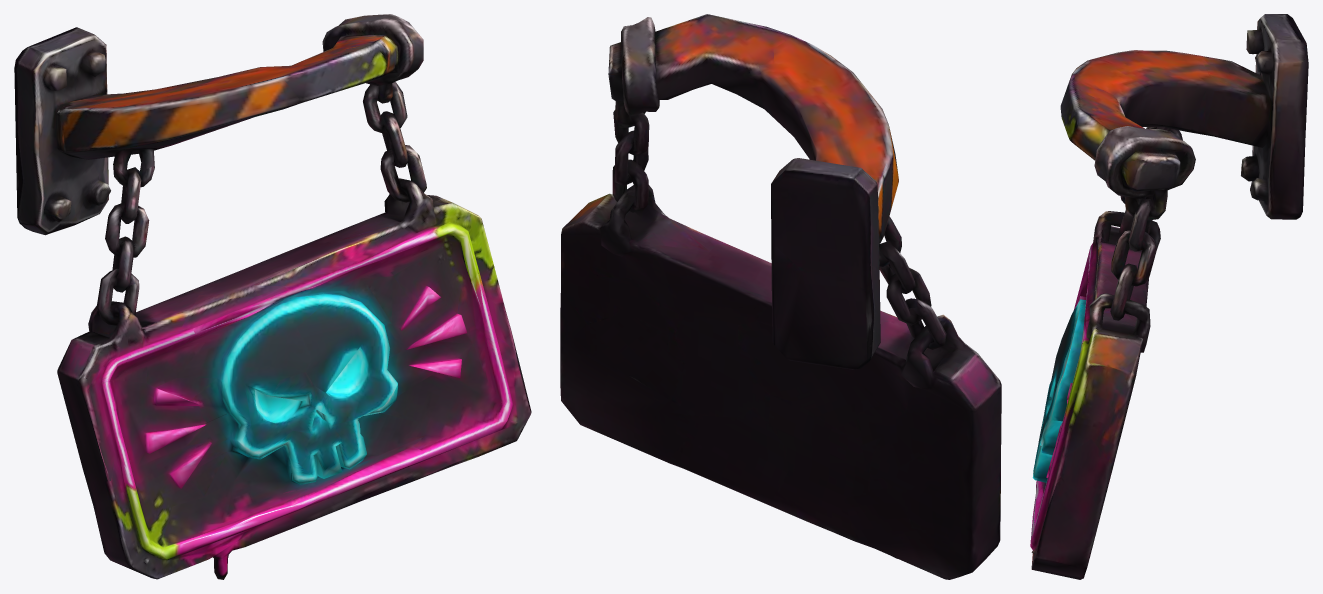
The model's file is GW_INT_hanging_sign.glb.
3 views of the same model, side by side, from view 1: azimuth 30°, elevation 25°; view 2: azimuth 150°, elevation 25°; view 3: azimuth 270°, elevation 25° (orthographic). The views are drawn at different scales.
Visible parts, largest first — view 1: tripo_node_a827f9cf-a6a6-4560-b8cf-17e203413412; view 2: tripo_node_a827f9cf-a6a6-4560-b8cf-17e203413412; view 3: tripo_node_a827f9cf-a6a6-4560-b8cf-17e203413412.
Part boxes in pixels (bbox=[...]): tripo_node_a827f9cf-a6a6-4560-b8cf-17e203413412: bbox=[14, 14, 531, 579]; tripo_node_a827f9cf-a6a6-4560-b8cf-17e203413412: bbox=[560, 14, 1001, 579]; tripo_node_a827f9cf-a6a6-4560-b8cf-17e203413412: bbox=[1030, 14, 1308, 579].
Bounding box in the file's own units: 0.9109 × 1 × 0.526.
Materials: 1 (1 with a texture image).
